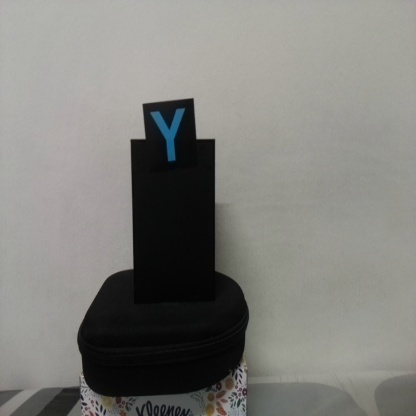id_14: (143, 103, 197, 175)
